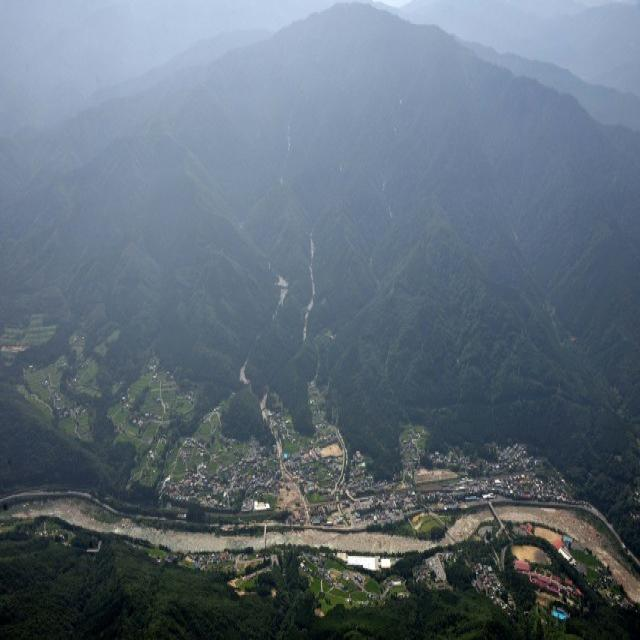Debris-flow: (260, 388, 281, 456), (272, 275, 289, 319), (318, 442, 342, 458), (240, 362, 249, 383)
